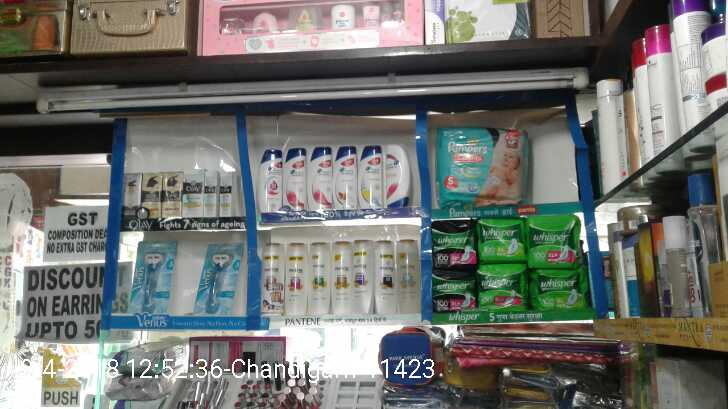venus: (192, 242, 242, 315), (129, 239, 177, 315)
